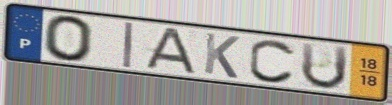A: (139, 26, 200, 76)
C: (247, 37, 298, 85)
I: (122, 20, 136, 70)
K: (201, 30, 242, 81)
O: (42, 14, 96, 64)
U: (298, 41, 351, 92)
